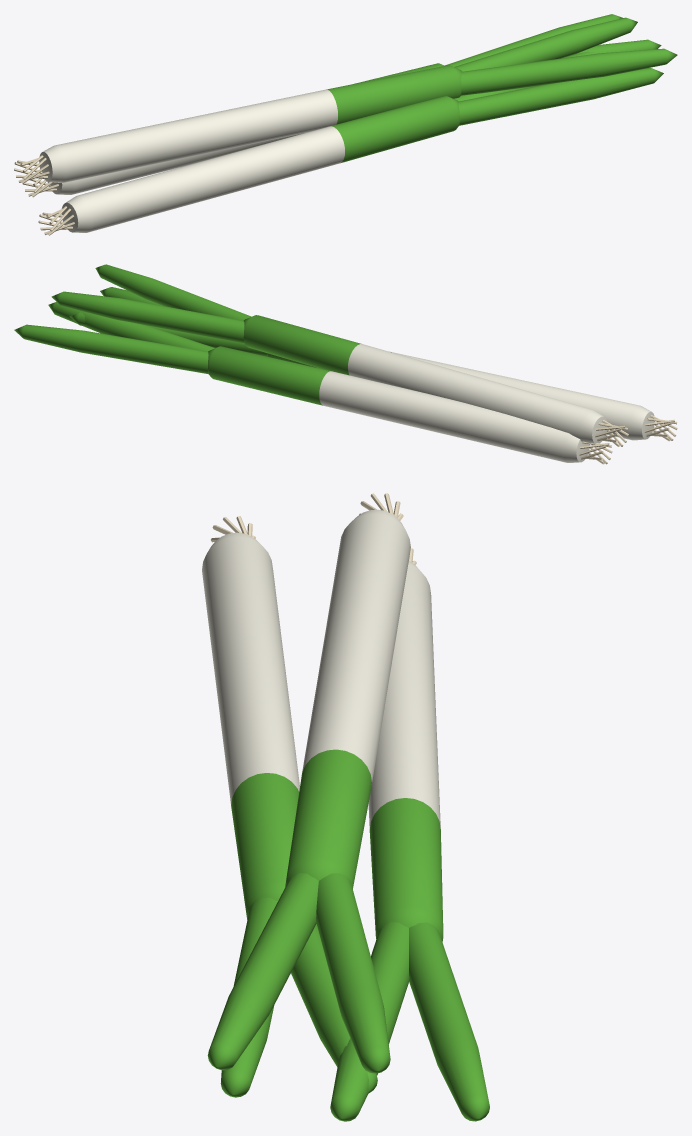
Rendered from Green_Onion.fbx.
3 renders of one model, top to bottom at view 1: azimuth 30°, elevation 25°; view 2: azimuth 150°, elevation 25°; view 3: azimuth 270°, elevation 25°, orthographic. The views are drawn at different scales.
Visible parts, largest first — view 1: Green_Onion; view 2: Green_Onion; view 3: Green_Onion.
Boxes of the visible parts, left/top/right/bottom form: Green_Onion: left=14, top=14, right=677, bottom=235; Green_Onion: left=14, top=264, right=677, bottom=464; Green_Onion: left=202, top=493, right=489, bottom=1121.
Size of the model in its own units: 0.2796 by 0.0224 by 0.0583.
